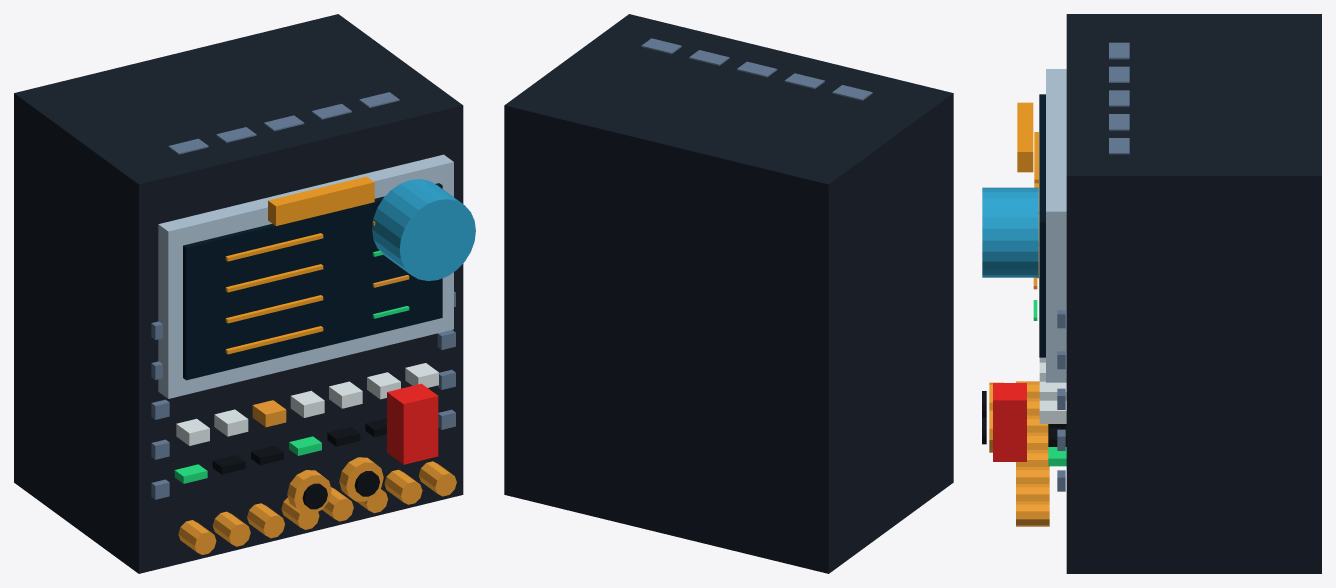
File: 65_L89_ShelterDoorActualInterlock.fbx
3 renders of one model, left to right at view 1: azimuth 30°, elevation 25°; view 2: azimuth 150°, elevation 25°; view 3: azimuth 270°, elevation 25°, orthographic. The views are drawn at different scales.
Parts seen in each view (by area): view 1: L87_ShelterDoorActualInterlock_Part_0000, L87_ShelterDoorActualInterlock_Part_0002, L87_ShelterDoorActualInterlock_Part_0001, L87_ShelterDoorActualInterlock_Part_0009, L87_ShelterDoorActualInterlock_Part_0004, L87_ShelterDoorActualInterlock_Part_0008, L87_ShelterDoorActualInterlock_Part_0006, L87_ShelterDoorActualInterlock_Part_0011, L87_ShelterDoorActualInterlock_Part_0010, L87_ShelterDoorActualInterlock_Part_0003, L87_ShelterDoorActualInterlock_Part_0007, L87_ShelterDoorActualInterlock_Part_0005 (+2 smaller); view 2: L87_ShelterDoorActualInterlock_Part_0000, L87_ShelterDoorActualInterlock_Part_0008; view 3: L87_ShelterDoorActualInterlock_Part_0000, L87_ShelterDoorActualInterlock_Part_0001, L87_ShelterDoorActualInterlock_Part_0009, L87_ShelterDoorActualInterlock_Part_0004, L87_ShelterDoorActualInterlock_Part_0008, L87_ShelterDoorActualInterlock_Part_0011, L87_ShelterDoorActualInterlock_Part_0002, L87_ShelterDoorActualInterlock_Part_0010, L87_ShelterDoorActualInterlock_Part_0006, L87_ShelterDoorActualInterlock_Part_0005.
Boxes of the visible parts, x1,y1,x2,y2 form: L87_ShelterDoorActualInterlock_Part_0000: [14, 14, 463, 573]; L87_ShelterDoorActualInterlock_Part_0002: [183, 183, 442, 380]; L87_ShelterDoorActualInterlock_Part_0001: [158, 154, 453, 398]; L87_ShelterDoorActualInterlock_Part_0009: [372, 179, 475, 280]; L87_ShelterDoorActualInterlock_Part_0004: [178, 221, 456, 554]; L87_ShelterDoorActualInterlock_Part_0008: [151, 92, 455, 499]; L87_ShelterDoorActualInterlock_Part_0006: [176, 363, 438, 445]; L87_ShelterDoorActualInterlock_Part_0011: [387, 383, 438, 464]; L87_ShelterDoorActualInterlock_Part_0010: [268, 176, 374, 225]; L87_ShelterDoorActualInterlock_Part_0003: [225, 233, 323, 354]; L87_ShelterDoorActualInterlock_Part_0007: [212, 418, 386, 474]; L87_ShelterDoorActualInterlock_Part_0005: [174, 250, 409, 483]; L87_ShelterDoorActualInterlock_Part_0000: [504, 14, 953, 573]; L87_ShelterDoorActualInterlock_Part_0008: [641, 38, 872, 100]; L87_ShelterDoorActualInterlock_Part_0000: [1066, 14, 1321, 573]; L87_ShelterDoorActualInterlock_Part_0001: [1046, 69, 1066, 382]; L87_ShelterDoorActualInterlock_Part_0009: [982, 187, 1038, 277]; L87_ShelterDoorActualInterlock_Part_0004: [1016, 277, 1049, 526]; L87_ShelterDoorActualInterlock_Part_0008: [1057, 42, 1129, 491]; L87_ShelterDoorActualInterlock_Part_0011: [993, 383, 1026, 461]; L87_ShelterDoorActualInterlock_Part_0002: [1039, 94, 1045, 357]; L87_ShelterDoorActualInterlock_Part_0010: [1017, 102, 1033, 172]; L87_ShelterDoorActualInterlock_Part_0006: [1039, 357, 1066, 423]; L87_ShelterDoorActualInterlock_Part_0005: [1033, 300, 1066, 466].
Size of the model in its own units: 112 by 129 by 99.6.
